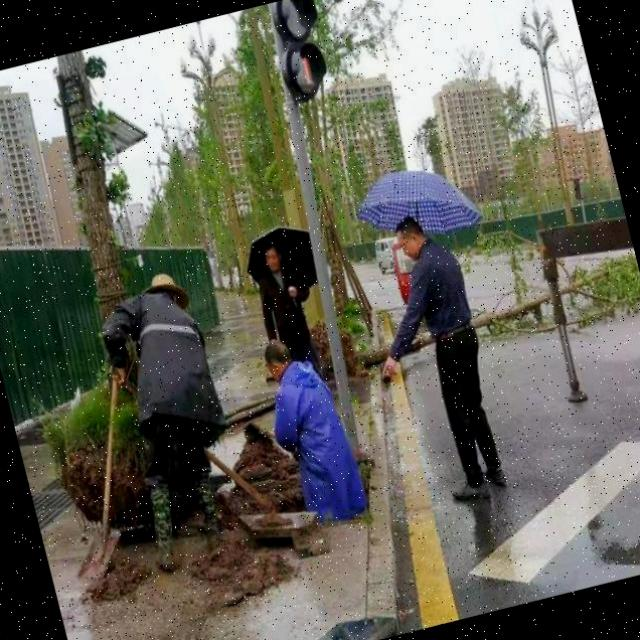fallen_object: (29, 242, 640, 548)
